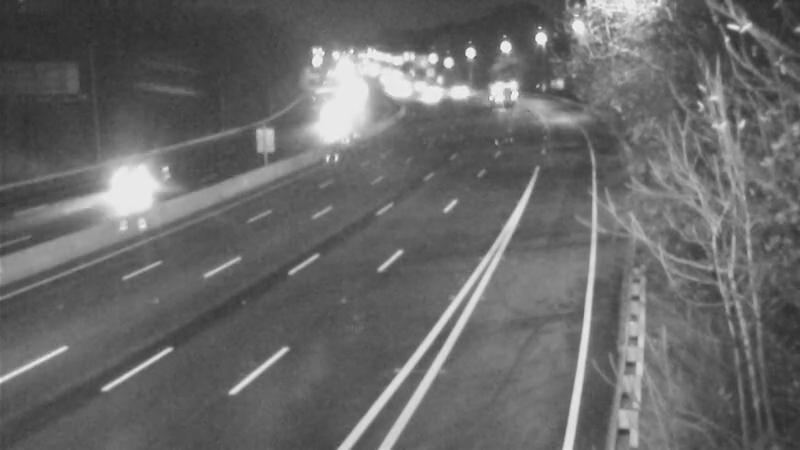vehicle: (93, 142, 173, 222), (439, 65, 489, 115), (475, 63, 525, 113)
